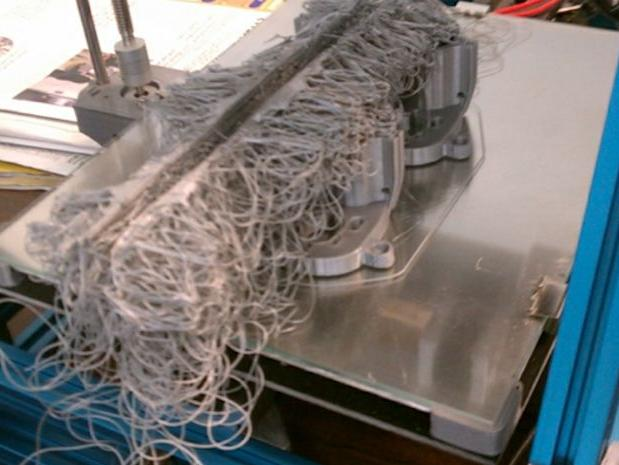Printing-Artifact: (15, 1, 480, 464)
